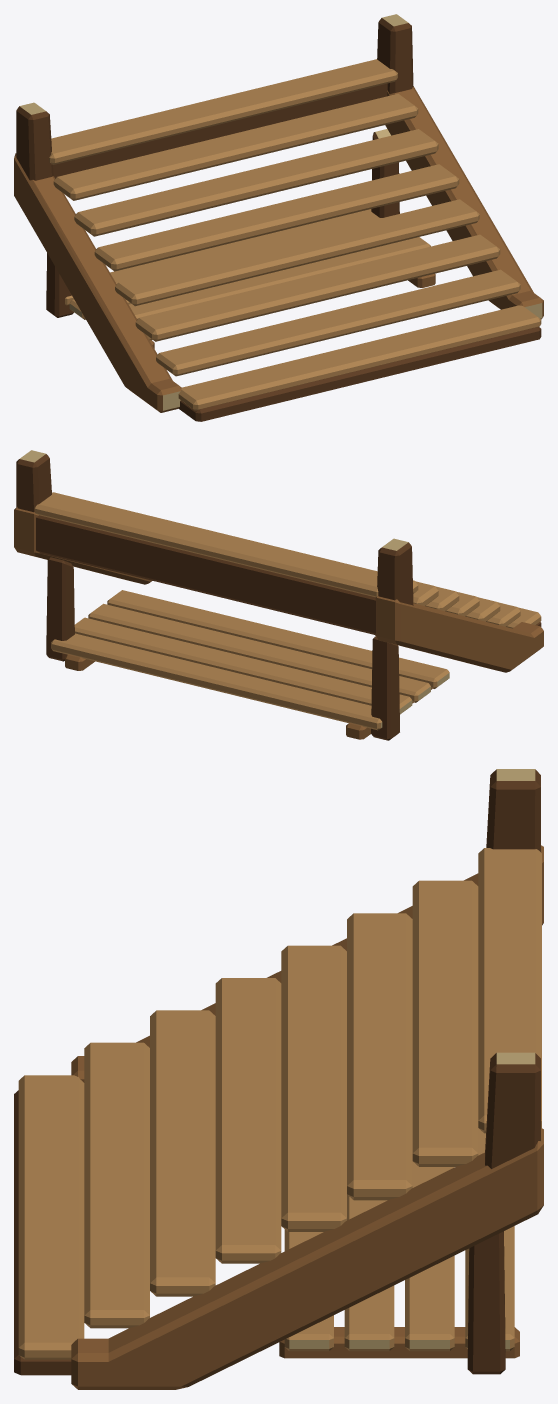
File: pier-access-stair-7369dc.glb
3 renders of one model, top to bottom at view 1: azimuth 30°, elevation 25°; view 2: azimuth 150°, elevation 25°; view 3: azimuth 270°, elevation 25°, orthographic. The views are drawn at different scales.
Visible parts, largest first — view 1: stair-body; view 2: stair-body; view 3: stair-body.
Boxes of the visible parts, x1,y1,x2,y2 form: stair-body: [14, 14, 543, 421]; stair-body: [14, 450, 543, 740]; stair-body: [14, 769, 543, 1389].
Bounding box in the file's own units: 3 × 1.5 × 2.22.
